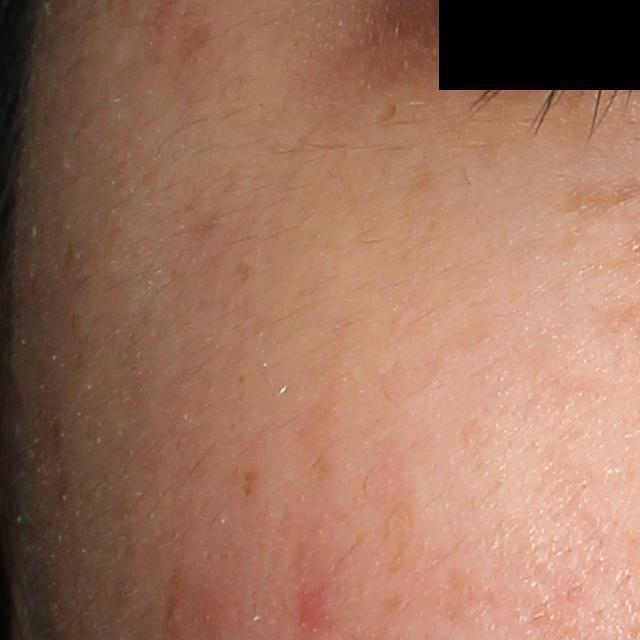melasma: (403, 153, 435, 196), (375, 104, 398, 131)
papule: (152, 7, 178, 36)
